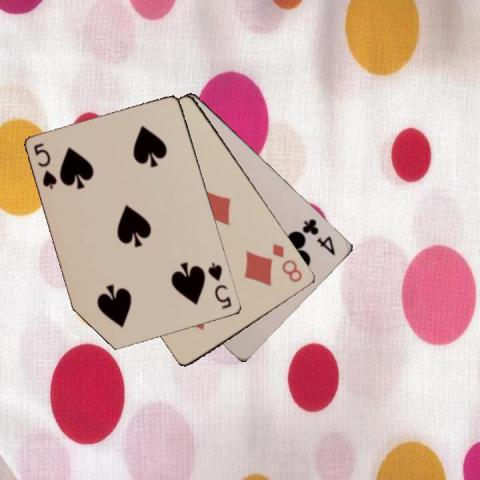4c: (300, 215, 338, 257)
5s: (30, 140, 59, 191), (206, 259, 234, 311)
8d: (269, 240, 305, 284)
